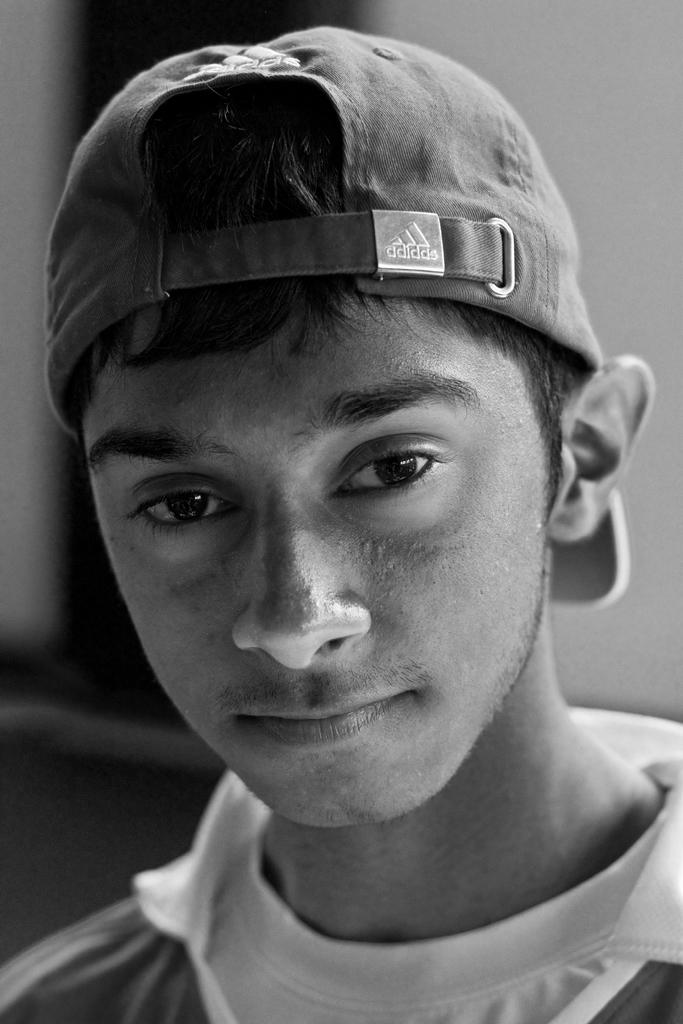Hat: (46, 25, 624, 606)
